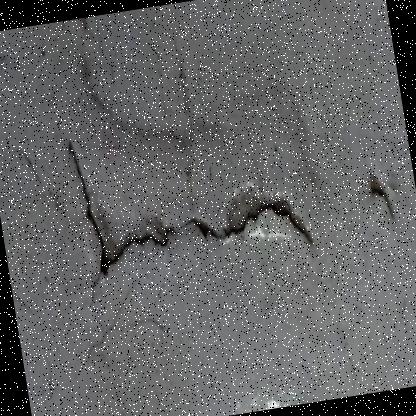Crack: (0, 34, 415, 397), (0, 36, 45, 100)
